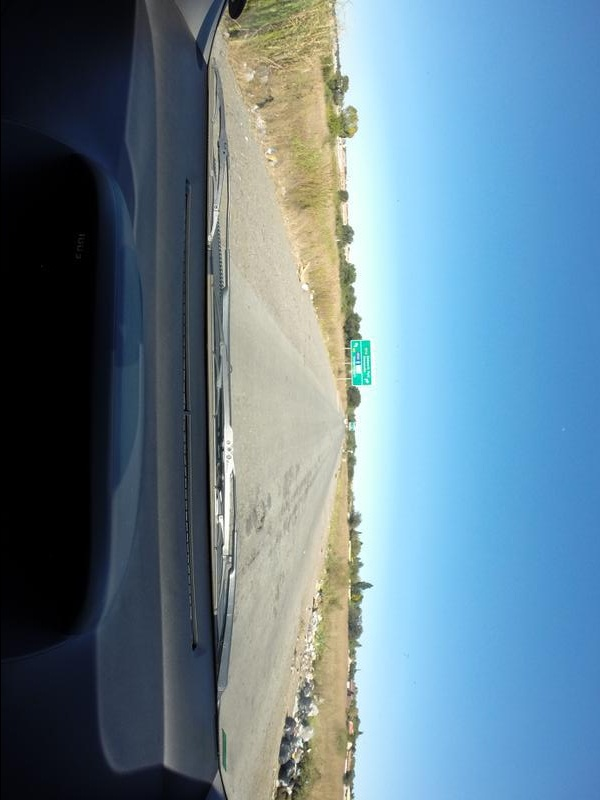pothole: (245, 497, 277, 543)
